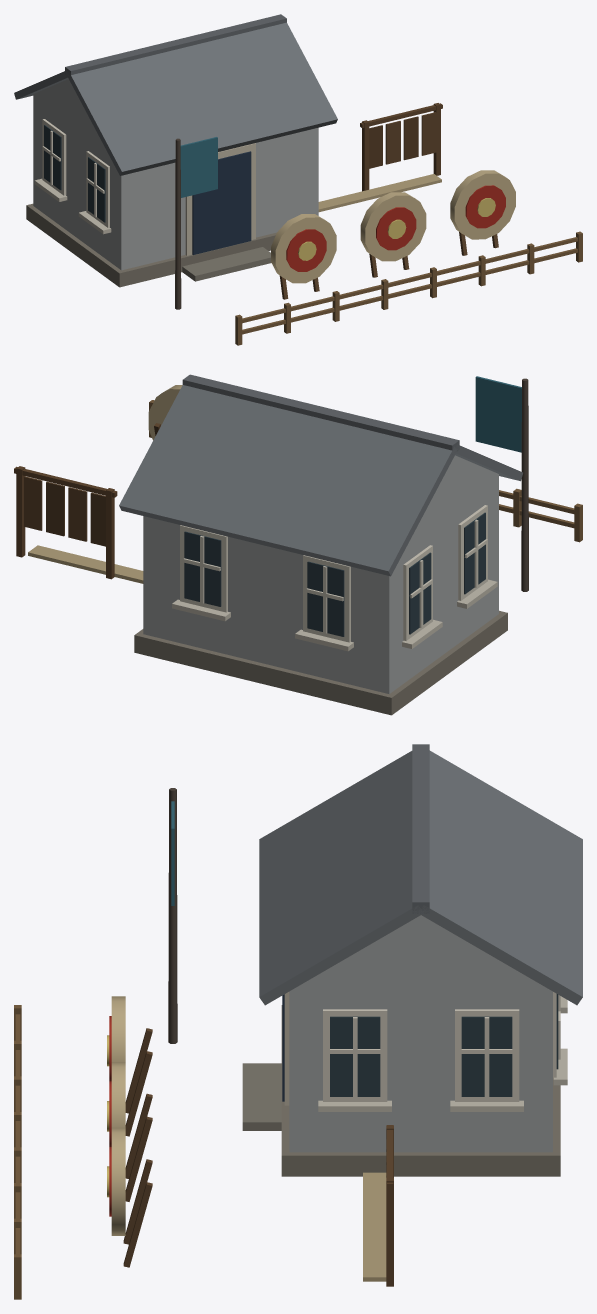
Rendered from procedural_archery@6.glb.
3 renders of one model, top to bottom at view 1: azimuth 30°, elevation 25°; view 2: azimuth 150°, elevation 25°; view 3: azimuth 270°, elevation 25°, orthographic. The views are drawn at different scales.
Parts seen in each view (by area): view 1: part_0; view 2: part_0; view 3: part_0.
Part boxes in pixels (x1,y1,x2,y2): part_0: (14,14,582,345); part_0: (14,374,582,715); part_0: (14,744,582,1299).
Bounding box in the file's own units: 8.46 × 4 × 7.34.
